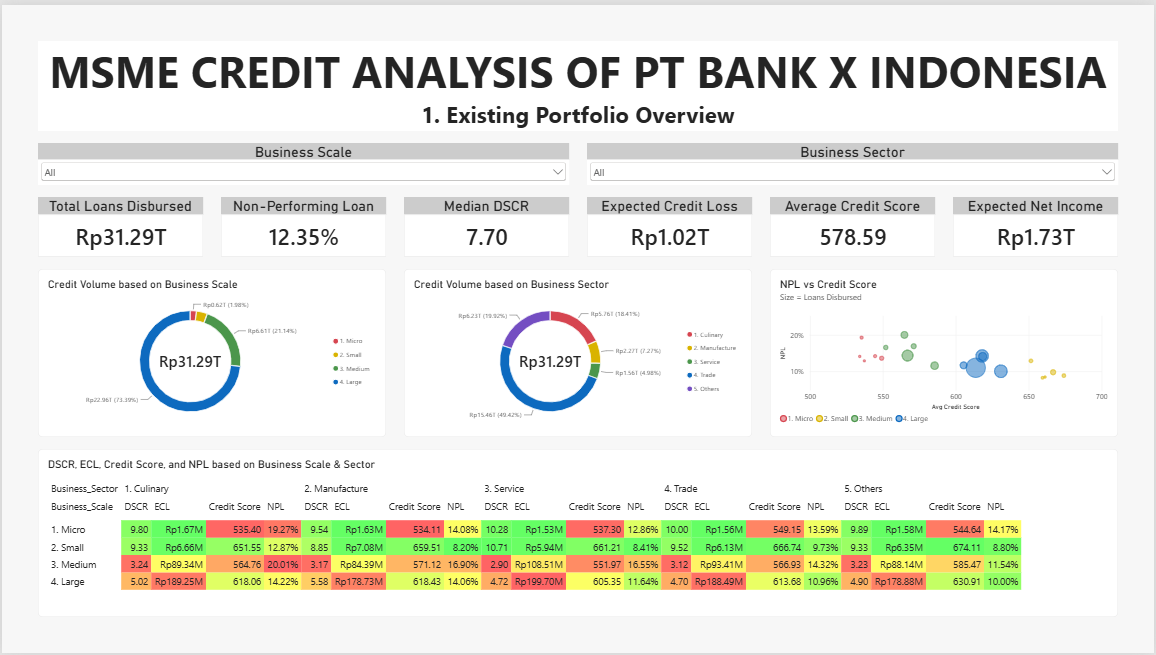

This screenshot's page, from the dashboard's own definition file:
{"tool":"powerbi","page":{"name":"Page 1","canvas":[1920,1080],"ordinal":0},"visuals":[{"type":"textbox","box":[60,60,1800,150],"z":0},{"type":"slicer","title":"Business Scale","fields":{"Values":["MSME_credit_data_analyzed.Business_Scale"]},"box":[60,230,885,70],"z":1000},{"type":"slicer","title":"Business Sector","fields":{"Values":["MSME_credit_data_analyzed.Business_Sector"]},"box":[975,230,885,70],"z":2000},{"type":"cardVisual","title":"Non-Performing Loan","fields":{"Data":["MSME_credit_data_analyzed.NPL"]},"box":[365,320,275,100],"z":3000},{"type":"cardVisual","title":"Total Loans Disbursed","fields":{"Data":["Sum(MSME_credit_data_analyzed.Loan_Ceiling)"]},"box":[60,320,275,100],"z":4000},{"type":"cardVisual","title":"Expected Credit Loss","fields":{"Data":["Sum(MSME_credit_data_analyzed.Expected_Credit_Loss)"]},"box":[974.4,320.3,275,100],"z":5000},{"type":"cardVisual","title":"Average Credit Score","fields":{"Data":["Avg(MSME_credit_data_analyzed.Credit_Score)"]},"box":[1281,320.3,275,100],"z":6000},{"type":"cardVisual","title":"Median DSCR","fields":{"Data":["Median(MSME_credit_data_analyzed.Debt_Service_Coverage_Ratio)"]},"box":[670,320.3,275,100],"z":7000},{"type":"donutChart","title":"Credit Volume based on Business Sector","fields":{"Category":["MSME_credit_data_analyzed.Business_Sector"],"Y":["Sum(MSME_credit_data_analyzed.Loan_Ceiling)"]},"box":[670,440,580,280],"z":8000},{"type":"donutChart","title":"Credit Volume based on Business Scale","fields":{"Category":["MSME_credit_data_analyzed.Business_Scale"],"Y":["Sum(MSME_credit_data_analyzed.Loan_Ceiling)"]},"box":[60,440,580,280],"z":9000},{"type":"pivotTable","title":"DSCR, ECL, Credit Score, and NPL based on Business Scale & Sector","fields":{"Columns":["MSME_credit_data_analyzed.Business_Sector"],"Rows":["MSME_credit_data_analyzed.Business_Scale"],"Values":["Median(MSME_credit_data_analyzed.Debt_Service_Coverage_Ratio)","Median(MSME_credit_data_analyzed.Expected_Credit_Loss)","Avg(MSME_credit_data_analyzed.Credit_Score)","MSME_credit_data_analyzed.NPL"]},"box":[60,740,1800,280],"z":10000},{"type":"cardVisual","title":"Expected Net Income","fields":{"Data":["MSME_credit_data_analyzed.Expected_Net_Income"]},"box":[1585,320,275,100],"z":11000},{"type":"scatterChart","title":"NPL vs Credit Score","fields":{"Category":["MSME_credit_data_analyzed.Business_Sector"],"Series":["MSME_credit_data_analyzed.Business_Scale"],"Size":["Sum(MSME_credit_data_analyzed.Loan_Ceiling)"],"X":["Avg(MSME_credit_data_analyzed.Credit_Score)"],"Y":["MSME_credit_data_analyzed.NPL"]},"box":[1280,440,580,280],"z":13000}]}

Visuals, with their boxes in screenshot pixels (x1, y1, x2, y2), scaled from the page's 1920x1080 canvas onto the 1156x655 screenshot:
textbox: {"x1": 36, "y1": 36, "x2": 1120, "y2": 127}
"Business Scale" slicer: {"x1": 36, "y1": 139, "x2": 569, "y2": 182}
"Business Sector" slicer: {"x1": 587, "y1": 139, "x2": 1120, "y2": 182}
"Non-Performing Loan" cardVisual: {"x1": 220, "y1": 194, "x2": 385, "y2": 255}
"Total Loans Disbursed" cardVisual: {"x1": 36, "y1": 194, "x2": 202, "y2": 255}
"Expected Credit Loss" cardVisual: {"x1": 587, "y1": 194, "x2": 752, "y2": 255}
"Average Credit Score" cardVisual: {"x1": 771, "y1": 194, "x2": 937, "y2": 255}
"Median DSCR" cardVisual: {"x1": 403, "y1": 194, "x2": 569, "y2": 255}
"Credit Volume based on Business Sector" donutChart: {"x1": 403, "y1": 267, "x2": 753, "y2": 437}
"Credit Volume based on Business Scale" donutChart: {"x1": 36, "y1": 267, "x2": 385, "y2": 437}
"DSCR, ECL, Credit Score, and NPL based on Business Scale & Sector" pivotTable: {"x1": 36, "y1": 449, "x2": 1120, "y2": 619}
"Expected Net Income" cardVisual: {"x1": 954, "y1": 194, "x2": 1120, "y2": 255}
"NPL vs Credit Score" scatterChart: {"x1": 771, "y1": 267, "x2": 1120, "y2": 437}
